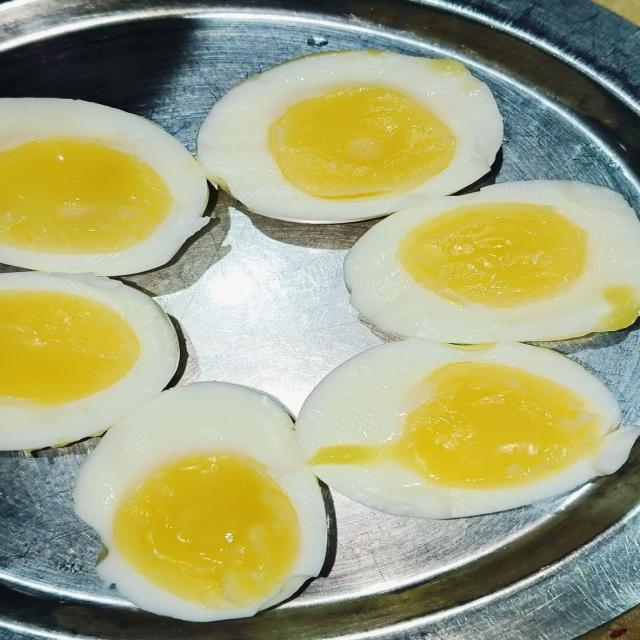eggs: (7, 52, 631, 560)
